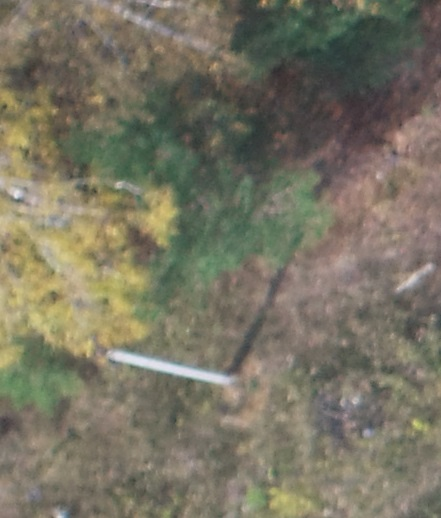opora: (94, 328, 255, 388)
